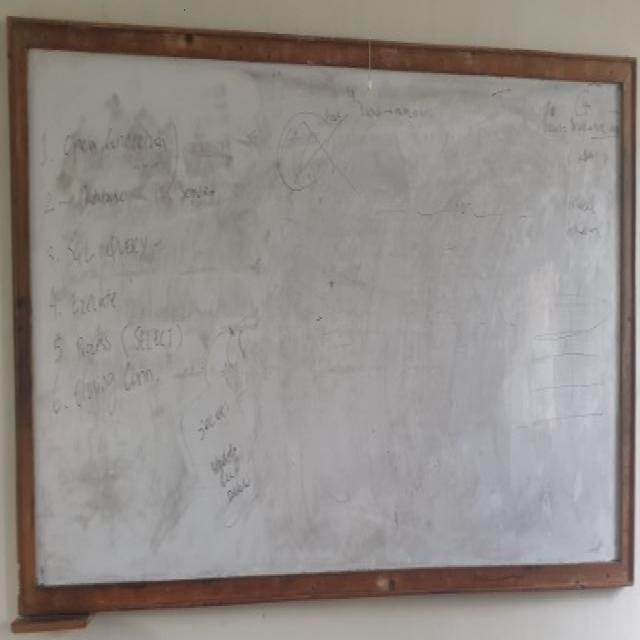White-board: (20, 32, 629, 602)
